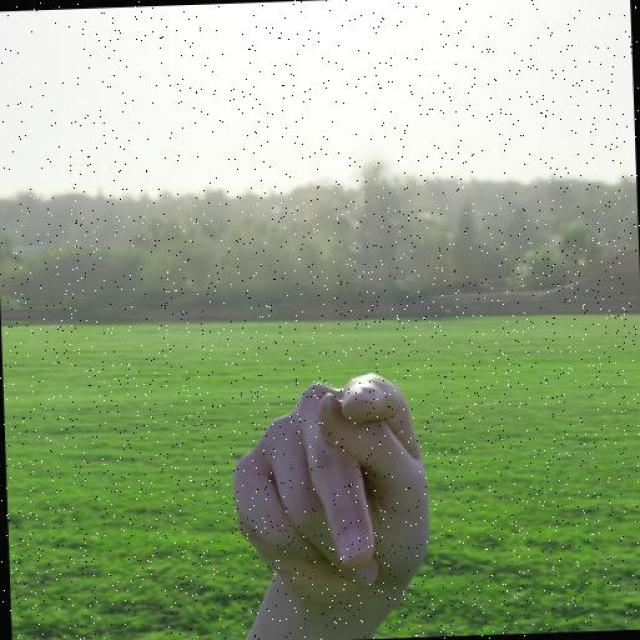P: (174, 332, 476, 632)
